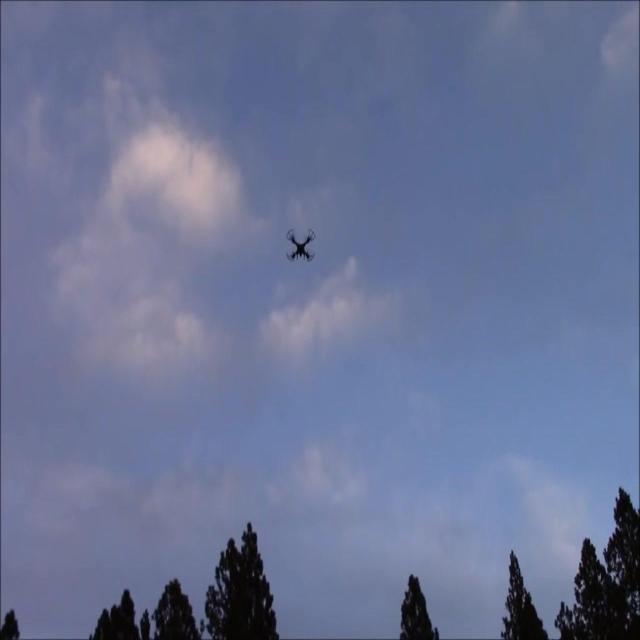drone: (284, 225, 317, 267)
